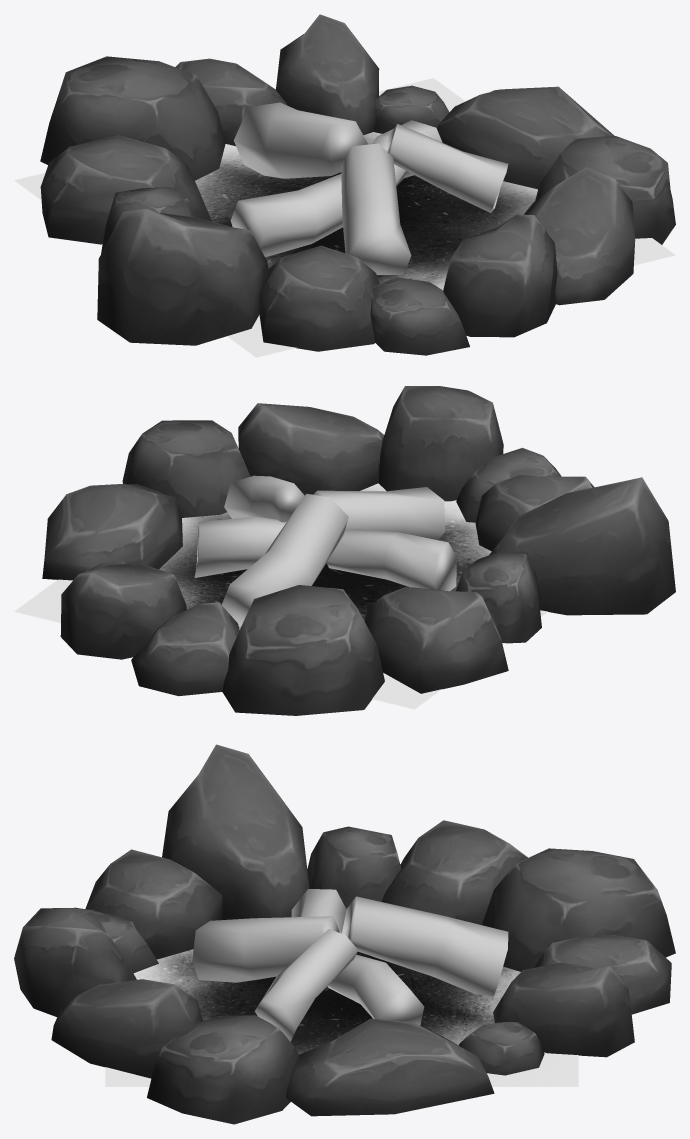
File: M_CampFire.fbx
The picture shows the model from 3 angles, top to bottom: view 1: azimuth 30°, elevation 25°; view 2: azimuth 150°, elevation 25°; view 3: azimuth 270°, elevation 25°; orthographic projection. The views are drawn at different scales.
Visible parts, largest first — view 1: FireRock1, BurntQuad, FireRock4, FireRock11, FireRock13, FireRock3, FireRock10, FireRock8, FireRock6, CharedLog1, CharedLog4, FireRock9 (+7 smaller); view 2: FireRock1, FireRock4, FireRock3, FireRock11, FireRock8, FireRock10, BurntQuad, FireRock6, FireRock9, FireRock5, CharedLog1, CharedLog5 (+6 smaller); view 3: FireRock1, FireRock4, FireRock8, BurntQuad, FireRock9, FireRock6, FireRock10, CharedLog1, FireRock3, FireRock13, FireRock11, CharedLog4 (+7 smaller).
Boxes of the visible parts, left/top/right/bottom form: FireRock1: left=97, top=209, right=268, bottom=345; BurntQuad: left=14, top=78, right=675, bottom=357; FireRock4: left=40, top=56, right=225, bottom=180; FireRock11: left=443, top=214, right=557, bottom=337; FireRock13: left=258, top=245, right=379, bottom=351; FireRock3: left=40, top=135, right=211, bottom=244; FireRock10: left=523, top=167, right=635, bottom=305; FireRock8: left=437, top=86, right=614, bottom=189; FireRock6: left=275, top=14, right=379, bottom=135; CharedLog1: left=233, top=102, right=367, bottom=178; CharedLog4: left=341, top=143, right=411, bottom=275; FireRock9: left=535, top=136, right=675, bottom=244; FireRock1: left=489, top=477, right=675, bottom=615; FireRock4: left=222, top=585, right=384, bottom=715; FireRock3: left=364, top=587, right=508, bottom=693; FireRock11: left=378, top=386, right=503, bottom=501; FireRock8: left=42, top=484, right=182, bottom=580; FireRock10: left=238, top=403, right=384, bottom=495; BurntQuad: left=14, top=447, right=547, bottom=709; FireRock6: left=60, top=563, right=186, bottom=659; FireRock9: left=122, top=420, right=250, bottom=517; FireRock5: left=131, top=602, right=239, bottom=696; CharedLog1: left=222, top=493, right=348, bottom=626; CharedLog5: left=326, top=529, right=456, bottom=591; FireRock1: left=162, top=744, right=309, bottom=919; FireRock4: left=482, top=848, right=675, bottom=971; FireRock8: left=286, top=1018, right=494, bottom=1116; BurntQuad: left=105, top=949, right=578, bottom=1086; FireRock9: left=147, top=1015, right=299, bottom=1124; FireRock6: left=493, top=962, right=634, bottom=1057; FireRock10: left=51, top=979, right=203, bottom=1078; CharedLog1: left=342, top=896, right=508, bottom=996; FireRock3: left=381, top=820, right=527, bottom=924; FireRock13: left=85, top=849, right=222, bottom=959; FireRock11: left=14, top=907, right=136, bottom=1016; CharedLog4: left=192, top=916, right=339, bottom=982.
Size of the model in its own units: 3.93 by 0.8635 by 4.1.
